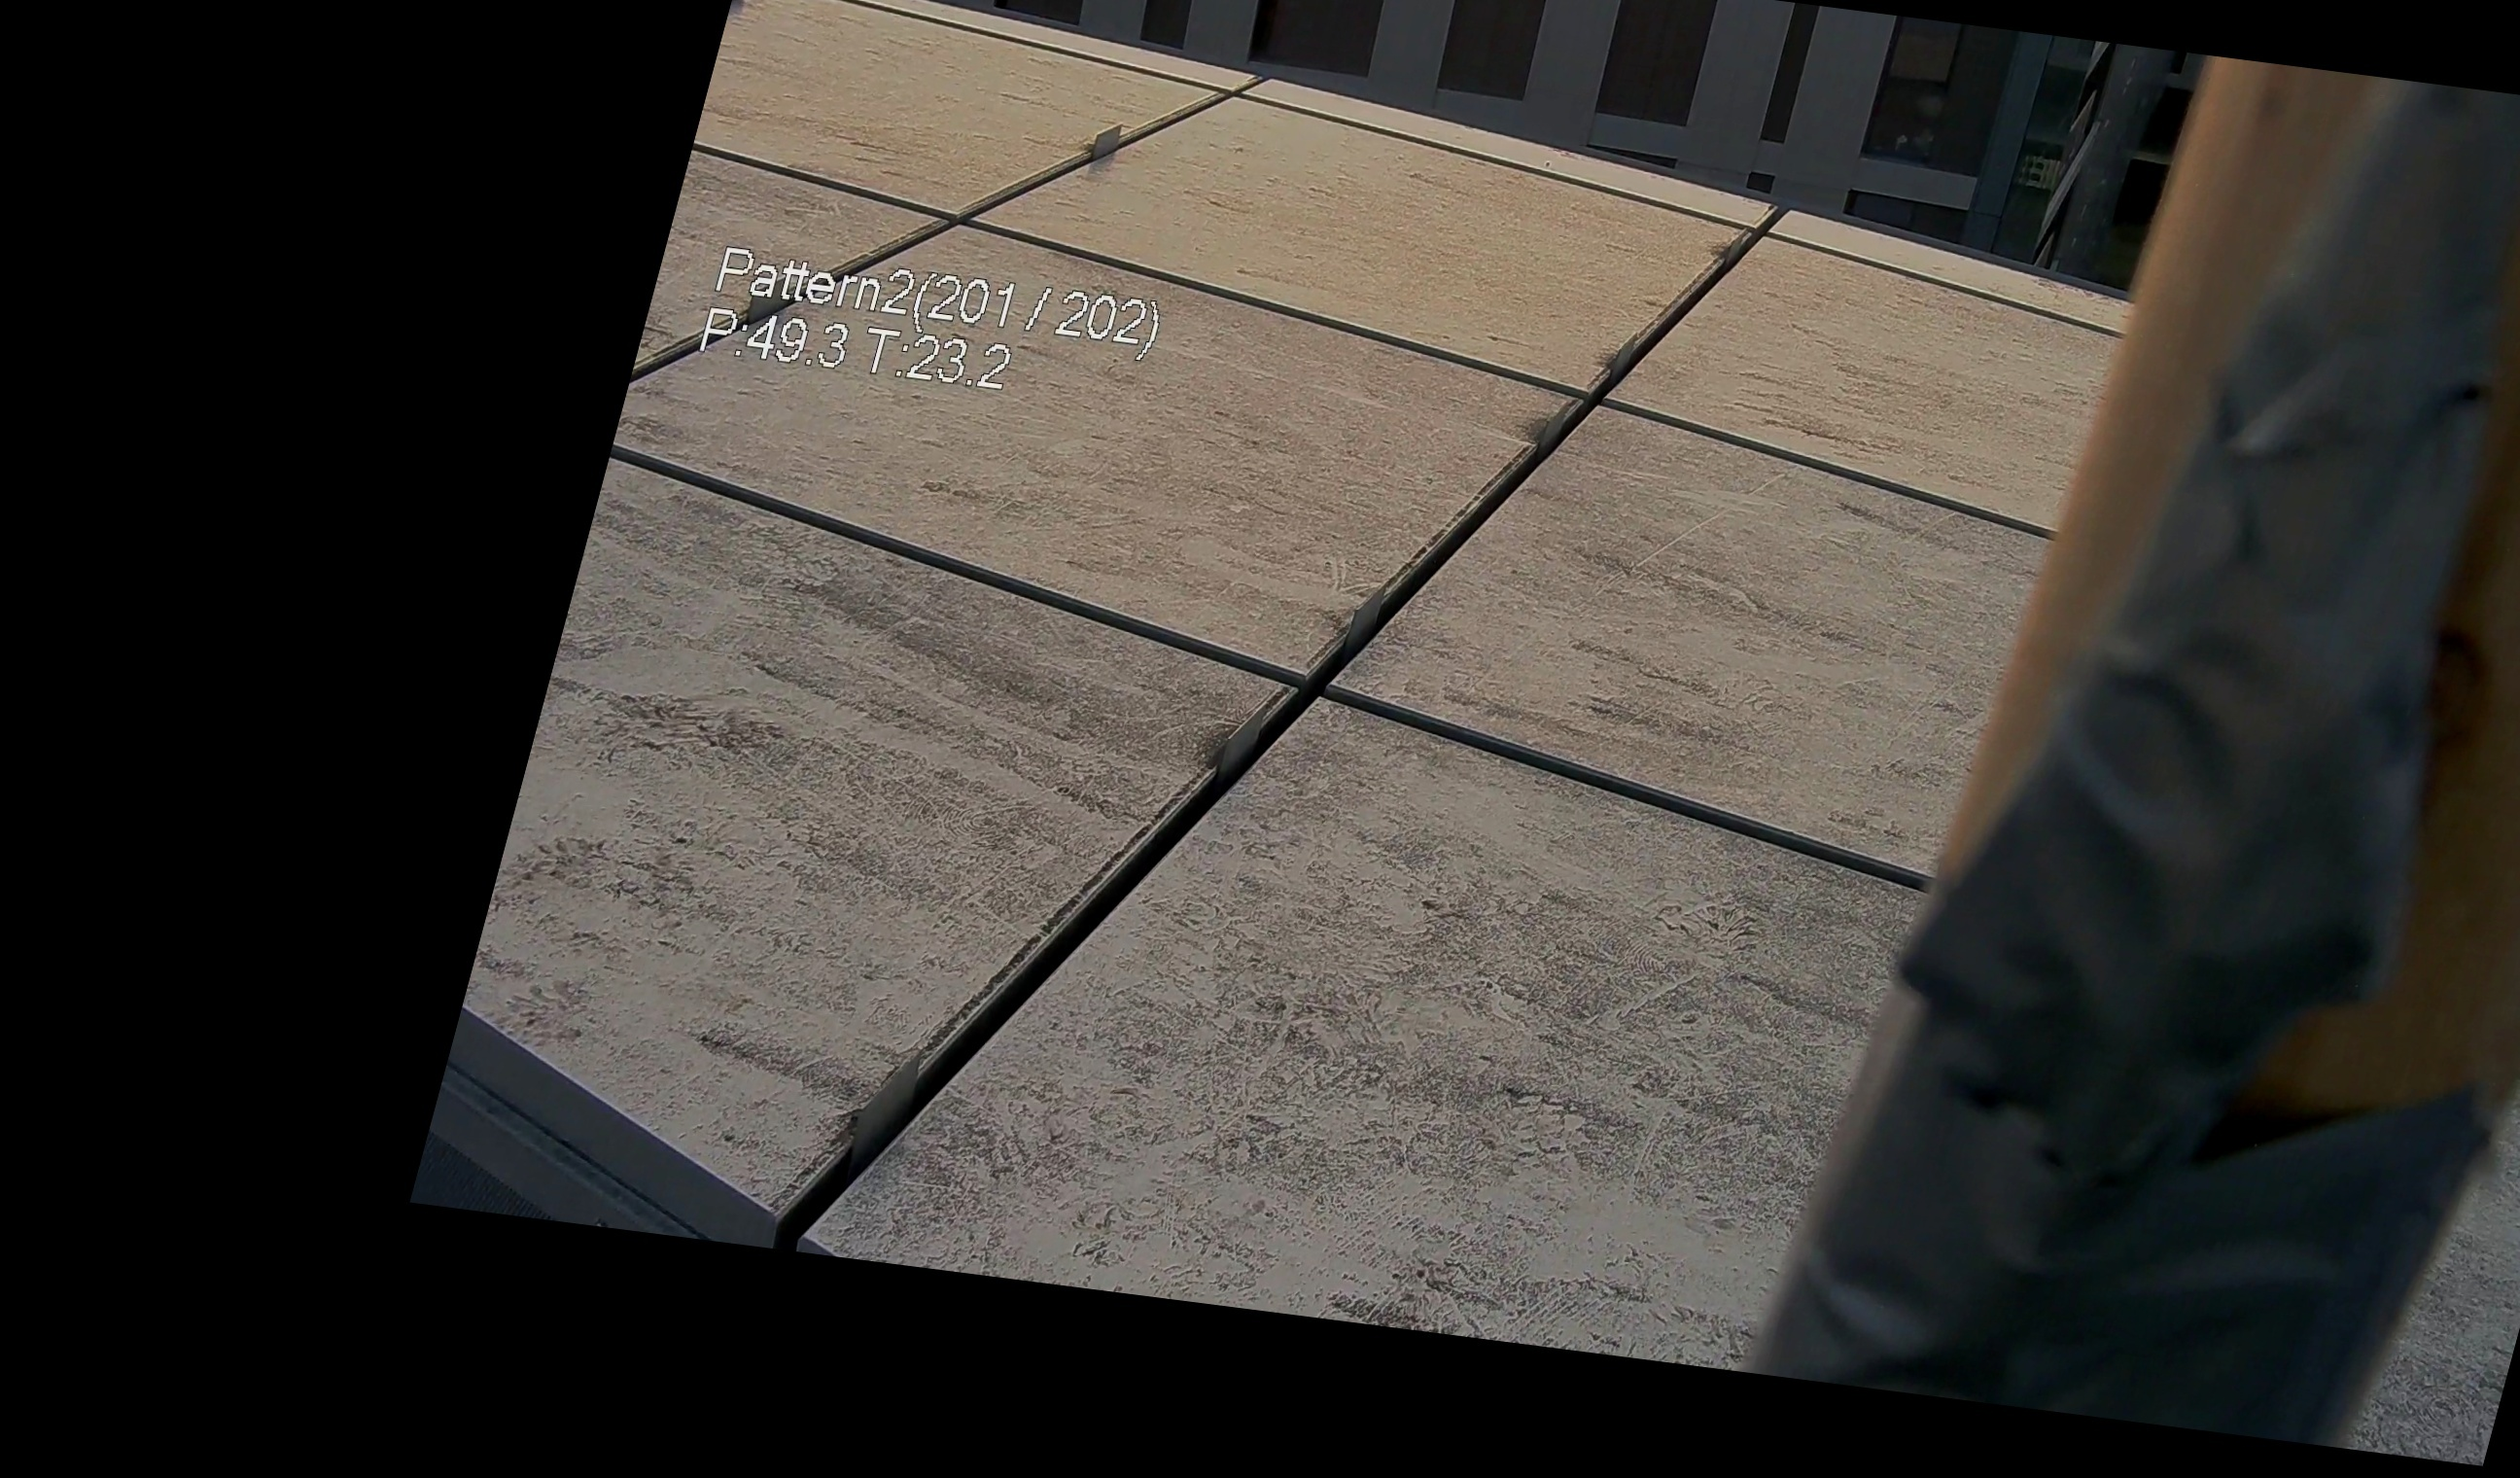Other: (1750, 0, 2520, 1478)
